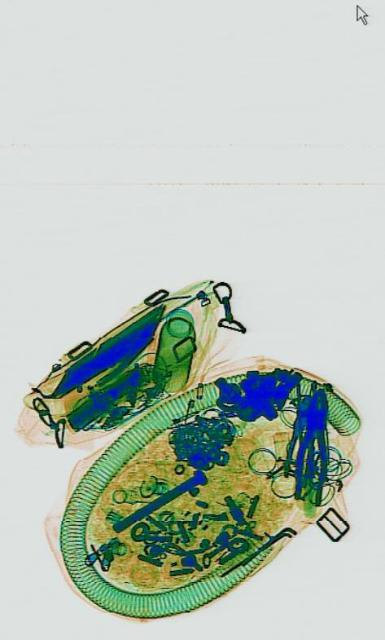Pliers: (290, 383, 336, 507), (282, 390, 320, 480)
